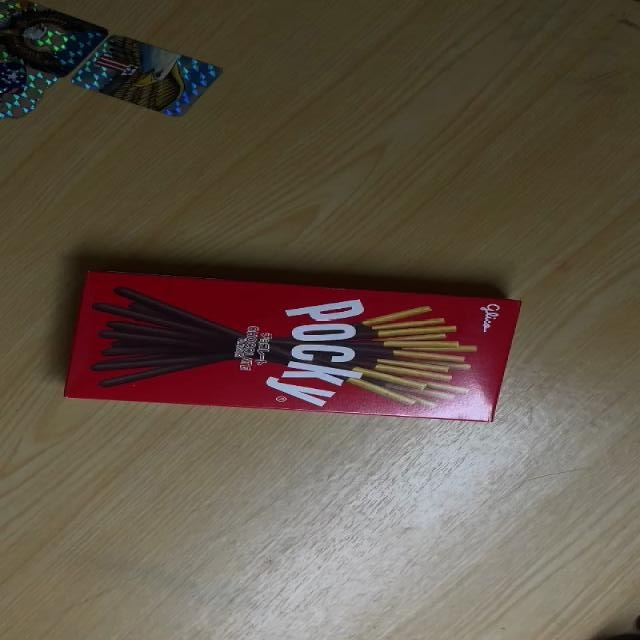Pocky: (66, 271, 527, 422)
